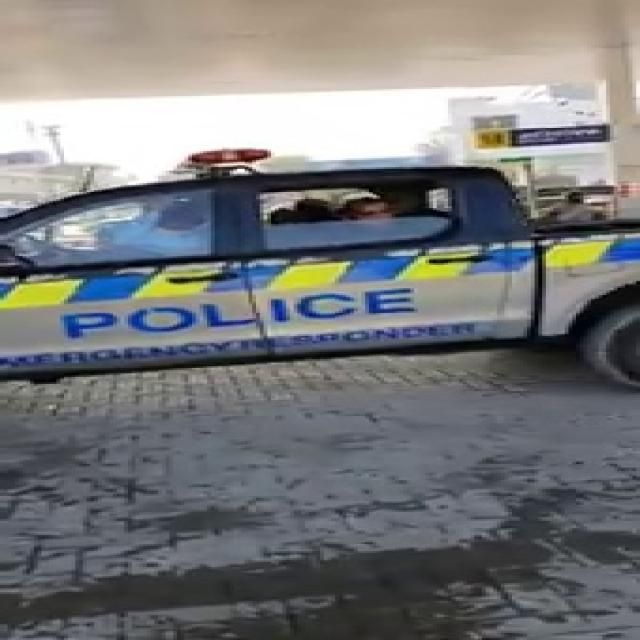police: (0, 159, 640, 370)
